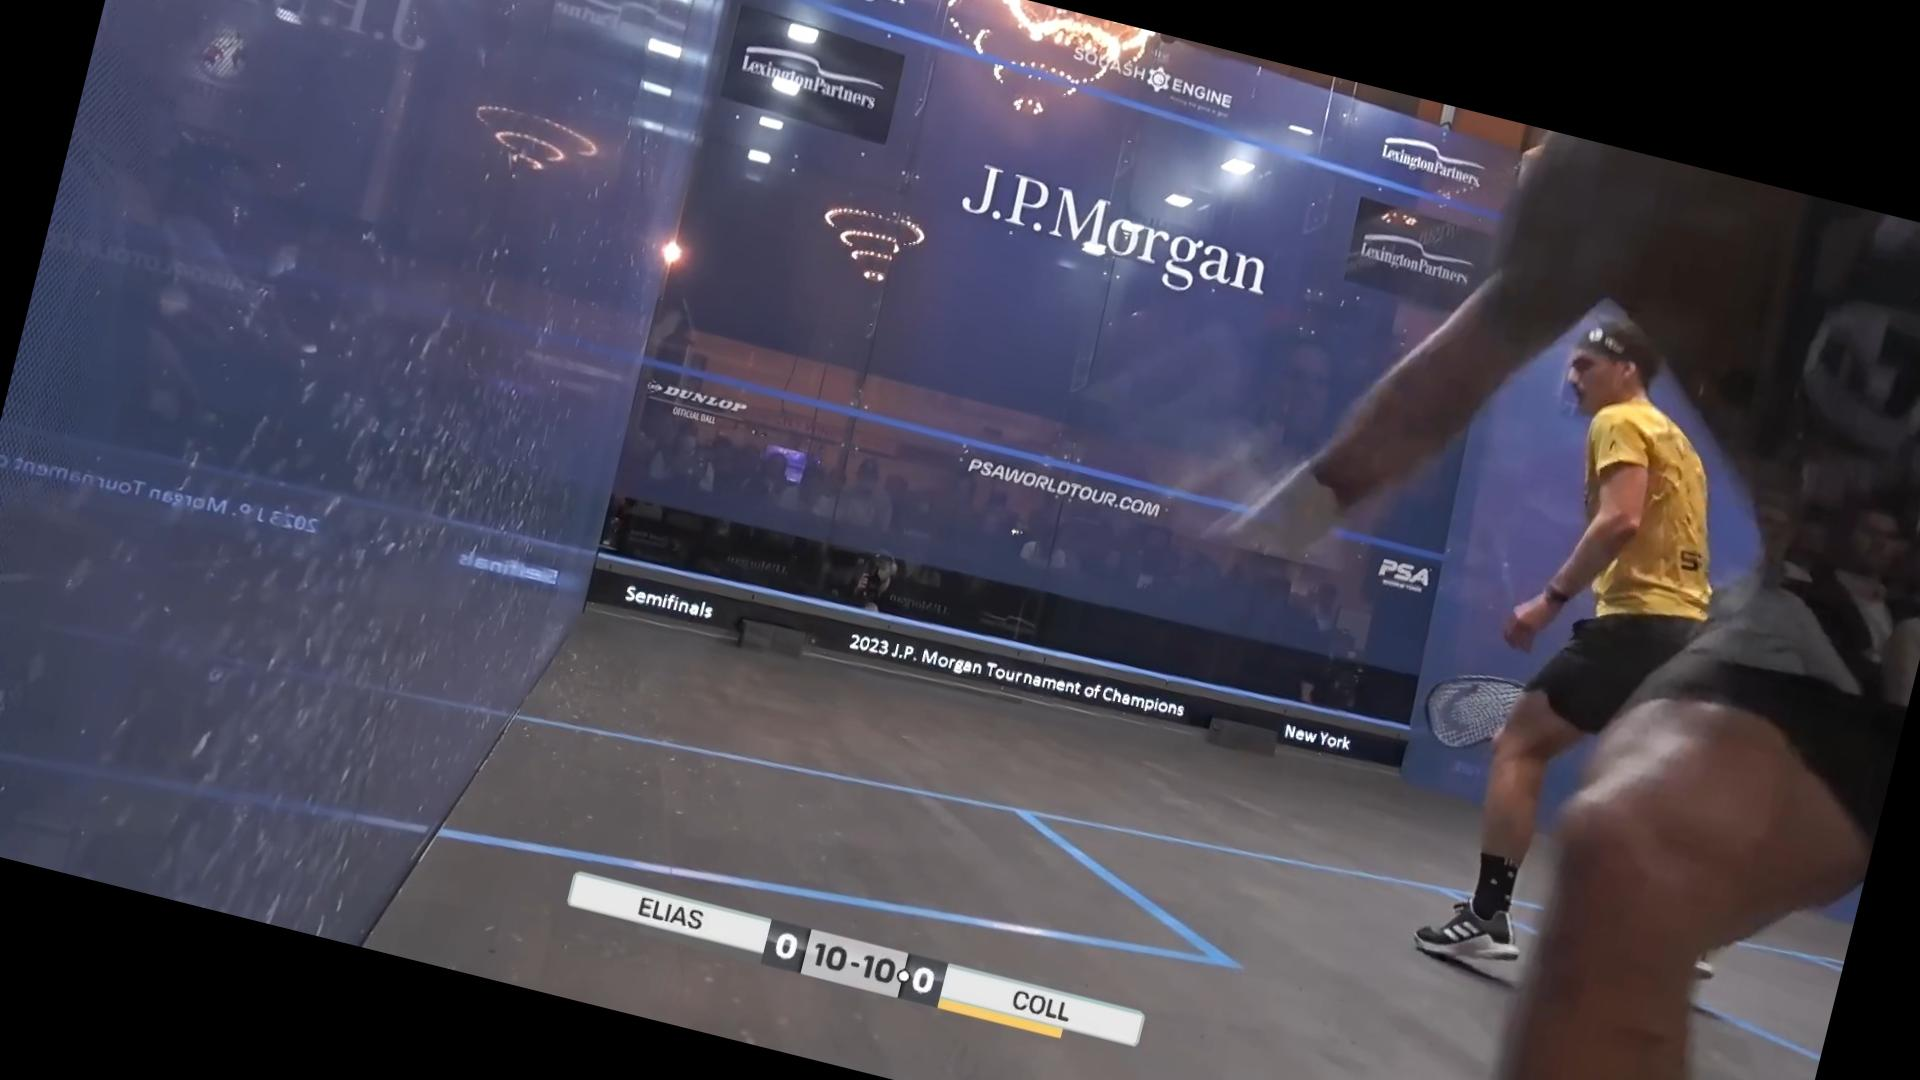Racket: (1394, 654, 1523, 782)
